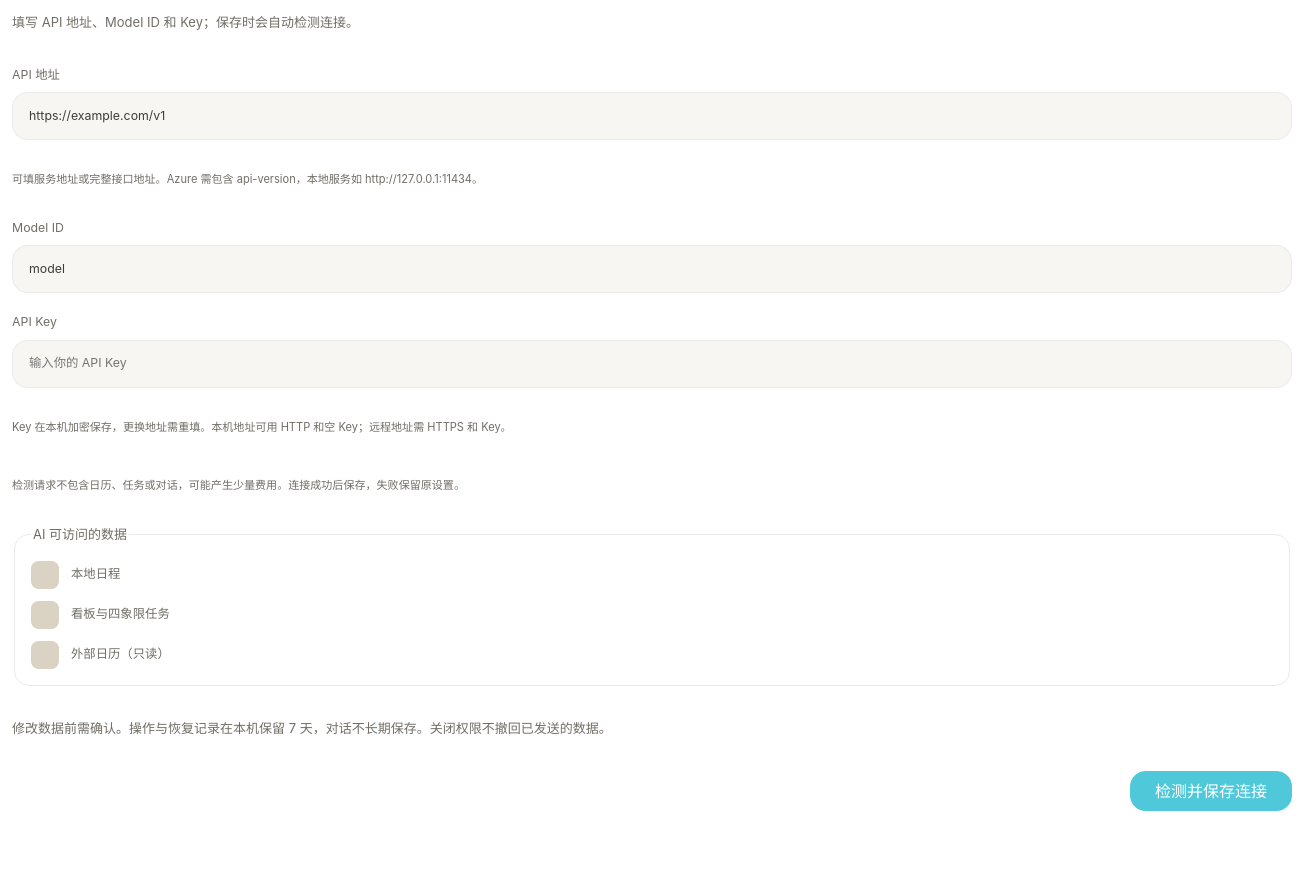
Scenario: sends explicit consent and a password only to the native settings boundary
The image size is (1304, 885).
Check: the field labelled "API 地址" is enabled, box top-left (12, 92), bottom-right (1292, 140)
In the password field labelled "API Key": [652, 364] box top-left (12, 340), bottom-right (1292, 388), type "fixture-secret"
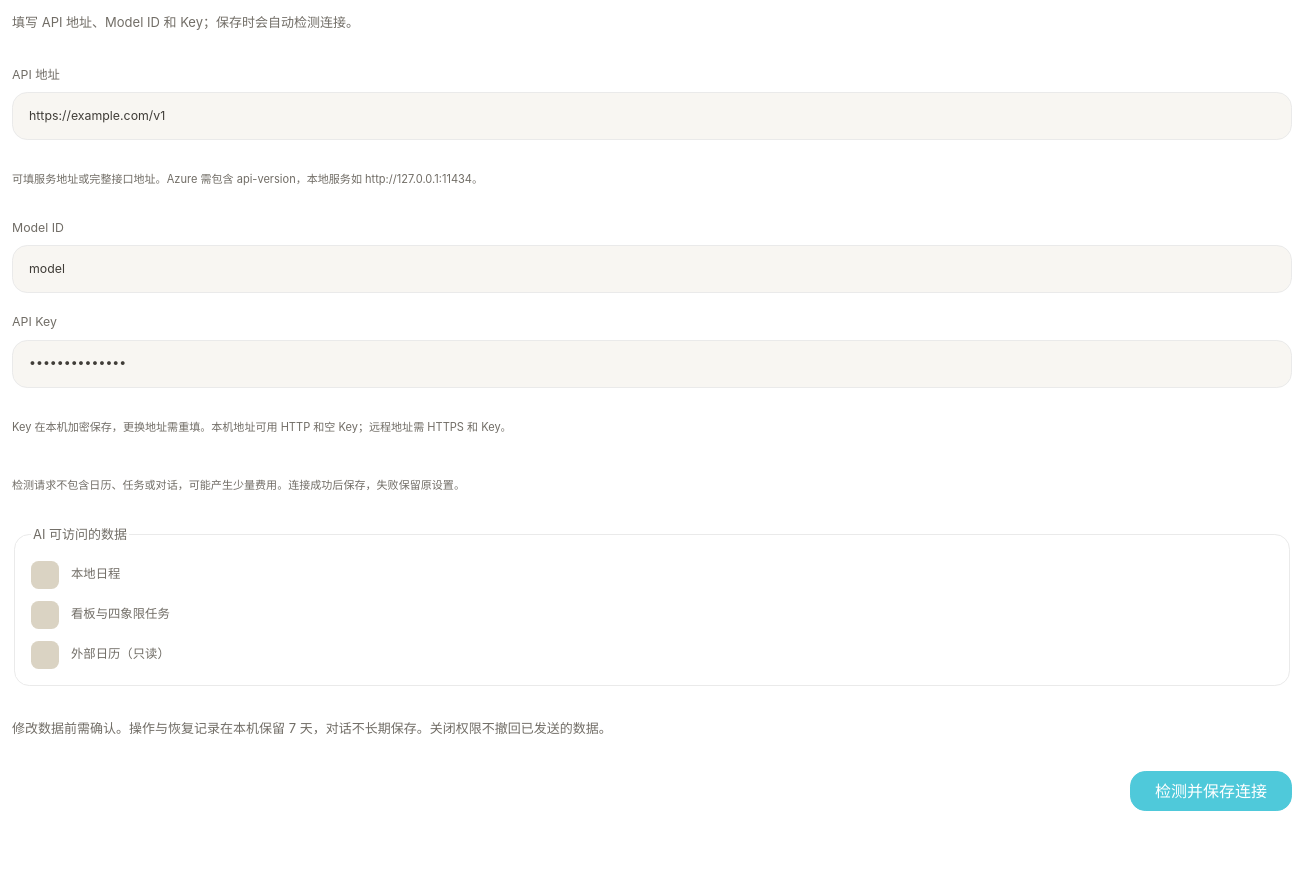
Click the checkbox labelled "本地日程": [45, 574] box top-left (31, 560), bottom-right (59, 588)
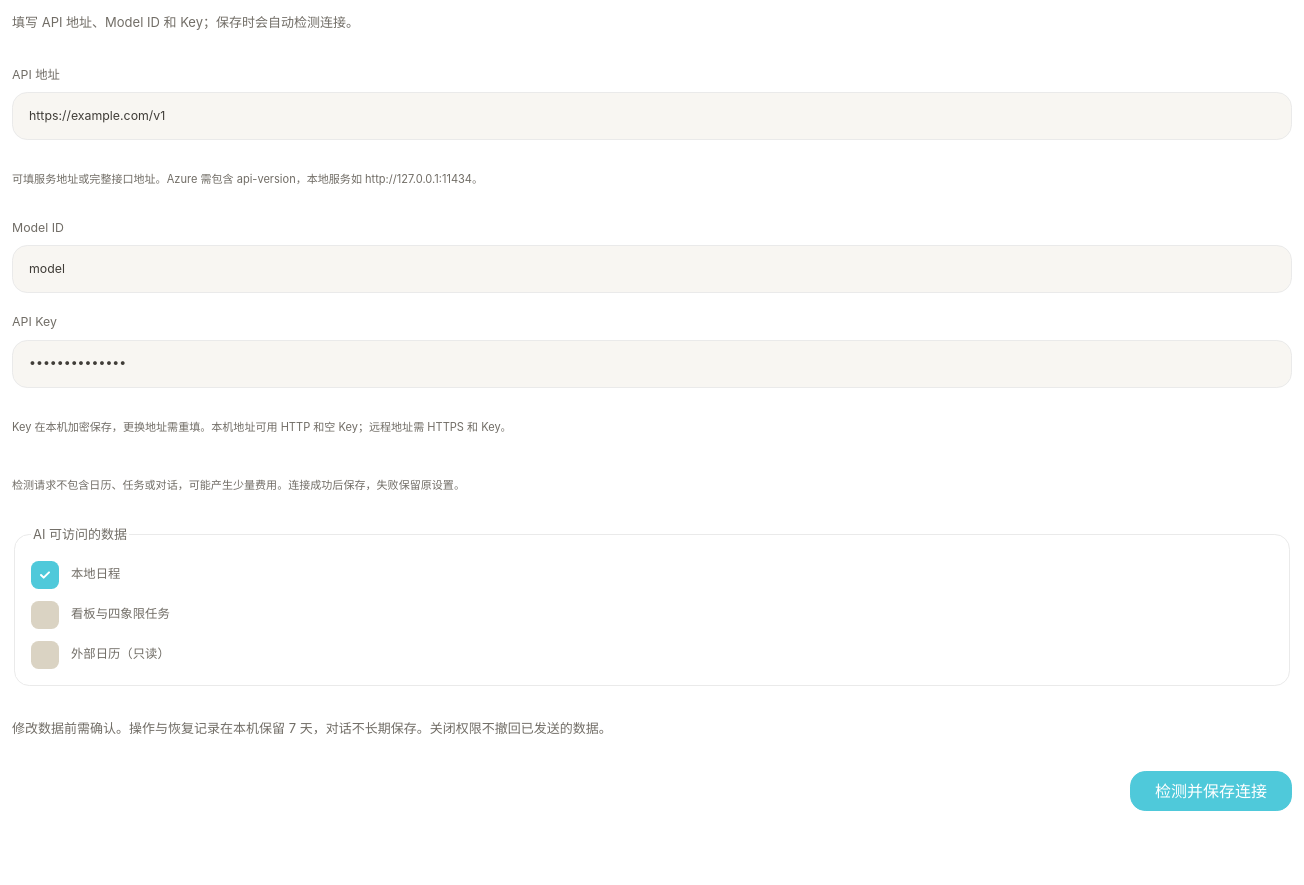
Click the button "检测并保存连接": [1211, 791] box top-left (1130, 771), bottom-right (1292, 811)
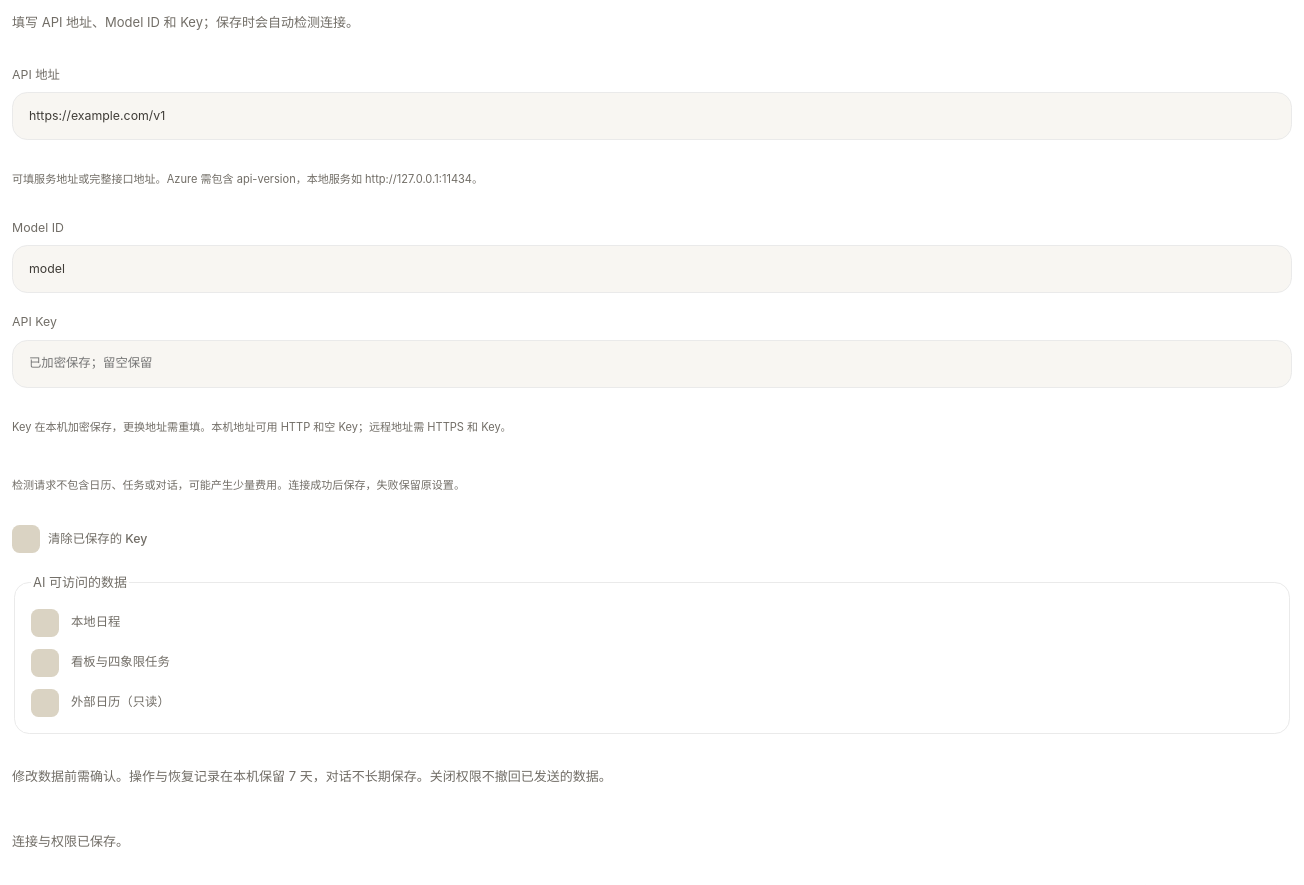
Check: the message reads "连接与权限已保存。", box top-left (12, 833), bottom-right (129, 849)
Check: the password field labelled "API Key" is empty, box top-left (12, 340), bottom-right (1292, 388)
